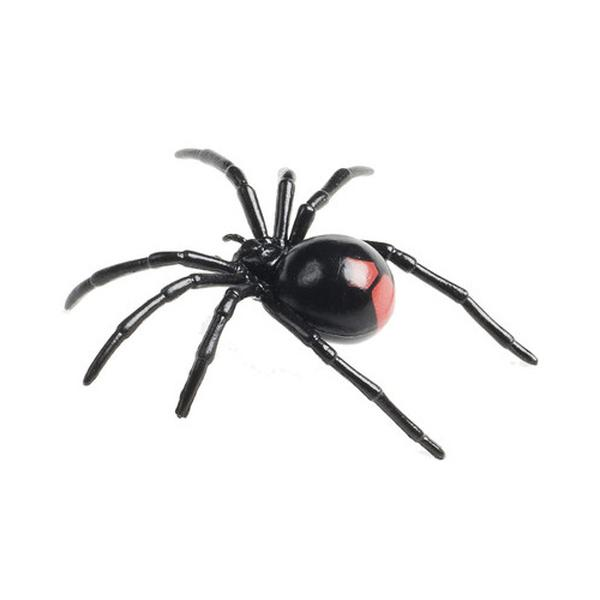Redback Spider: (65, 149, 536, 459)
